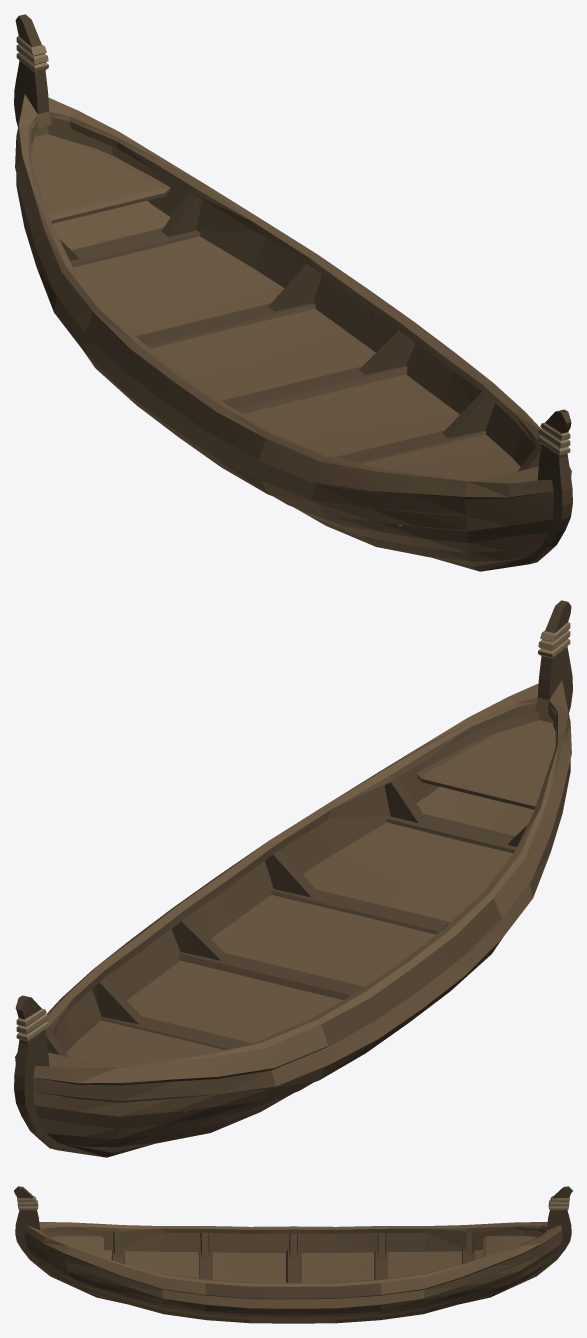
The model's file is Balsa_01.glb.
The picture shows the model from 3 angles, top to bottom: view 1: azimuth 30°, elevation 25°; view 2: azimuth 150°, elevation 25°; view 3: azimuth 270°, elevation 25°; orthographic projection. The views are drawn at different scales.
Parts seen in each view (by area): view 1: SM_Veh_FishingBoat_01; view 2: SM_Veh_FishingBoat_01; view 3: SM_Veh_FishingBoat_01.
Boxes of the visible parts, <box> form: SM_Veh_FishingBoat_01: <box>14,14,572,571</box>; SM_Veh_FishingBoat_01: <box>14,600,572,1157</box>; SM_Veh_FishingBoat_01: <box>14,1186,572,1323</box>.
Size of the model in its own units: 2.46 by 2.32 by 9.02.
1 material, 1 textured.
